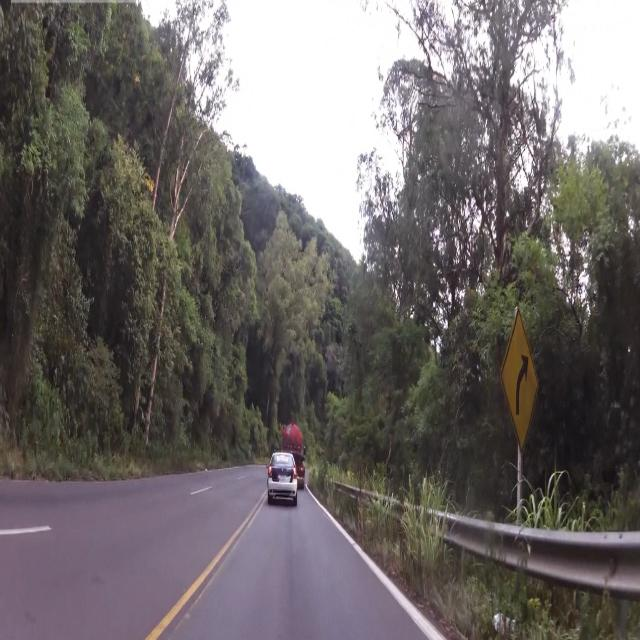A-2b: (501, 308, 549, 446)
